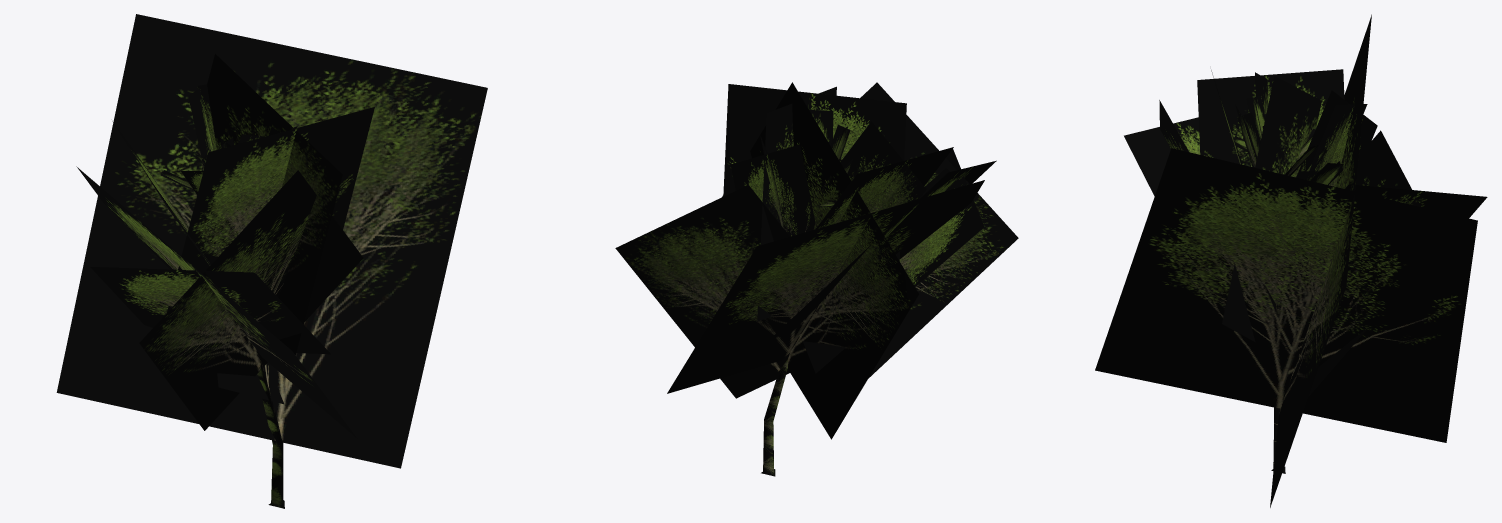
Rendered from elm_summer_fall.glb.
3 renders of one model, left to right at view 1: azimuth 30°, elevation 25°; view 2: azimuth 150°, elevation 25°; view 3: azimuth 270°, elevation 25°, orthographic. The views are drawn at different scales.
Visible parts, largest first — view 1: 2_Leaves, 1_Trunk; view 2: 2_Leaves, 1_Trunk; view 3: 2_Leaves.
Boxes of the visible parts, <box> form: 2_Leaves: <box>56,14,487,468</box>; 1_Trunk: <box>257,365,284,508</box>; 2_Leaves: <box>615,82,1018,439</box>; 1_Trunk: <box>761,359,787,476</box>; 2_Leaves: <box>1095,14,1487,507</box>.
Bounding box in the file's own units: 228 × 225 × 215.
1 material, 1 textured.
